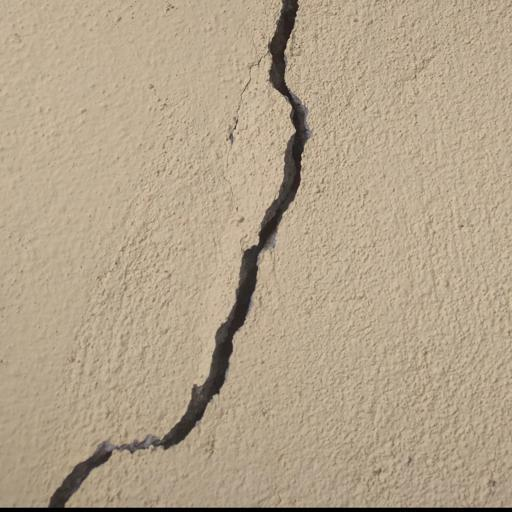major_crack: (39, 0, 321, 512)
